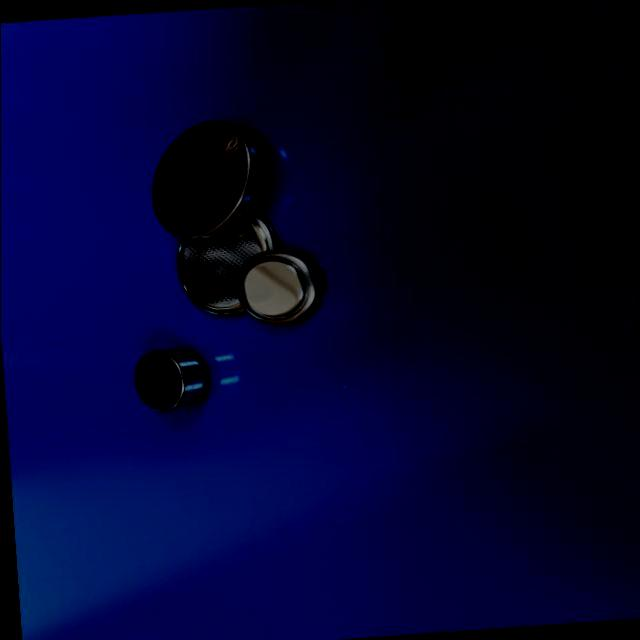COIN: (139, 114, 272, 246), (169, 196, 281, 321), (231, 243, 328, 329), (127, 345, 208, 413)
